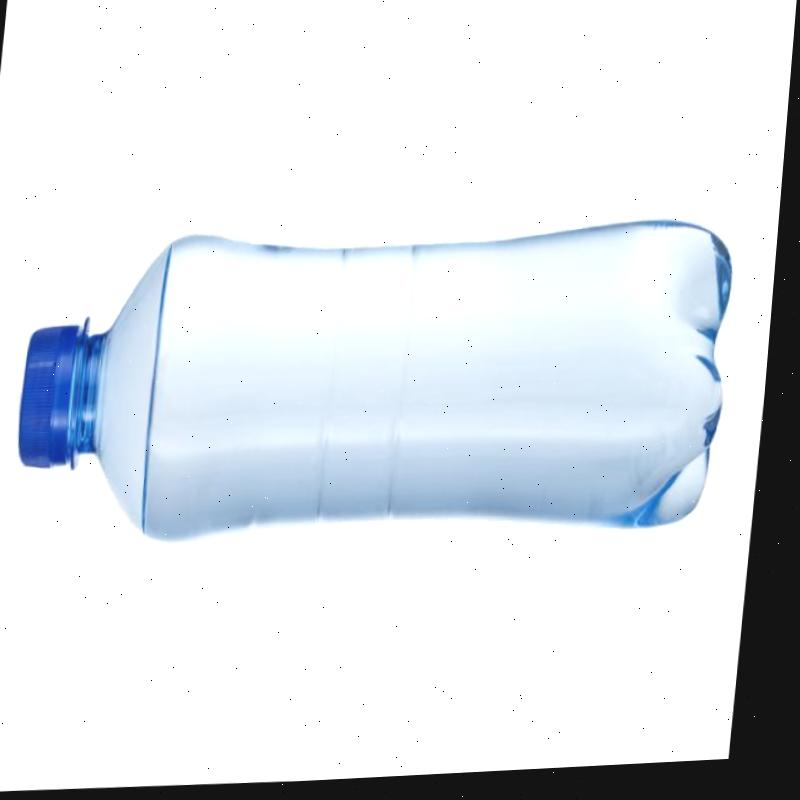botella: (13, 210, 744, 566)
